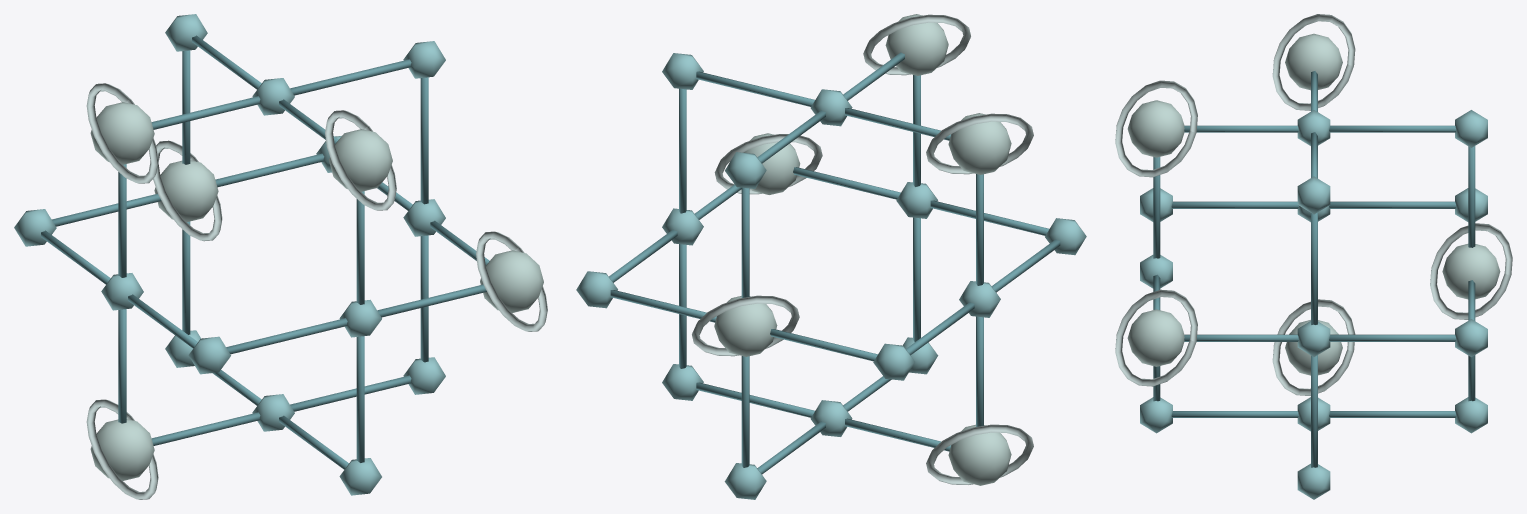
Rendered from ART-57.glb.
3 renders of one model, left to right at view 1: azimuth 30°, elevation 25°; view 2: azimuth 150°, elevation 25°; view 3: azimuth 270°, elevation 25°, orthographic. The views are drawn at different scales.
Visible parts, largest first — view 1: world; view 2: world; view 3: world.
Part boxes in pixels (x1=…): world: x1=14, y1=14, x2=547, y2=499; world: x1=576, y1=14, x2=1086, y2=499; world: x1=1115, y1=14, x2=1512, y2=499.
Size of the model in its own units: 2 by 2 by 2.
